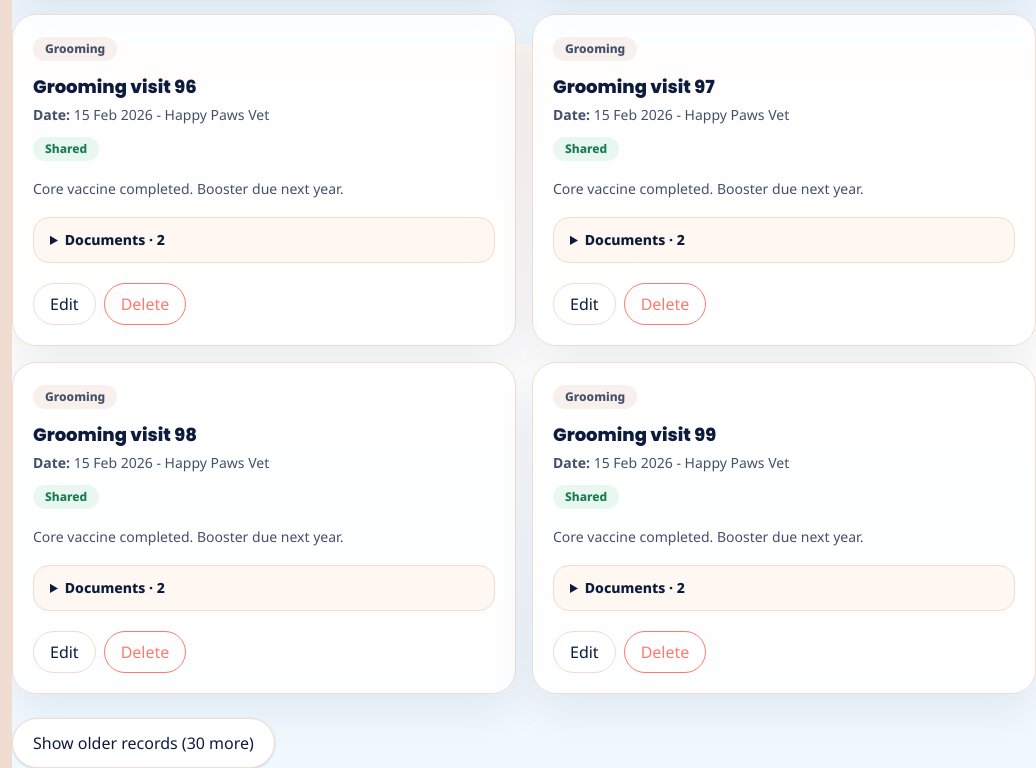
Test: Care history beyond its first page › doesn't skip records when newer ones were deleted between pages
(page scrolled)
Click the button "Show older records (30 more)" at point(143, 743), box [12,718,275,767]
(page scrolled)
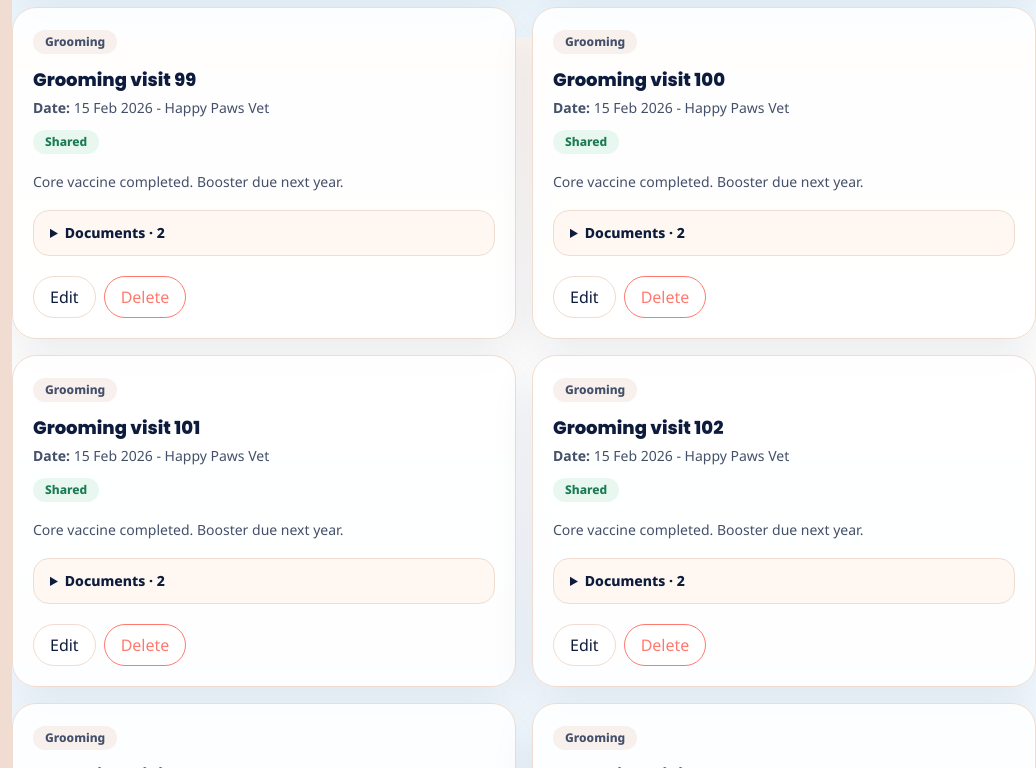
Result: the heading "Grooming visit 102" is shown at [553,415,723,440]
Result: the heading "Grooming visit 101" is shown at [33,415,200,440]
